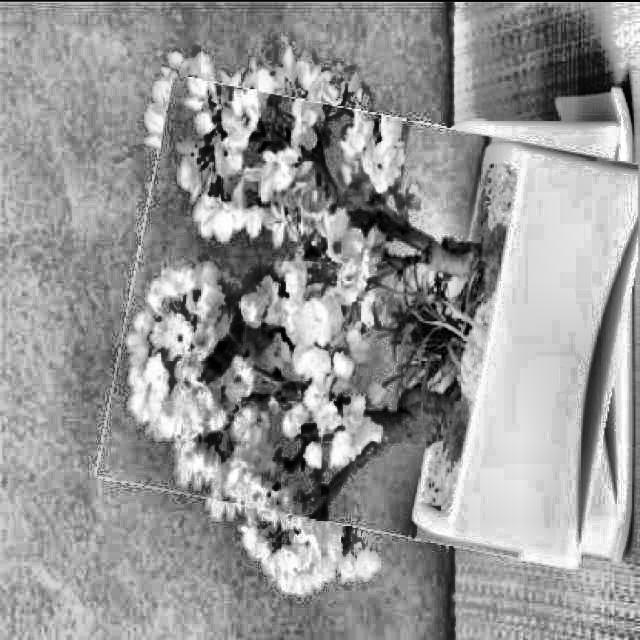plants: (112, 94, 637, 546)
